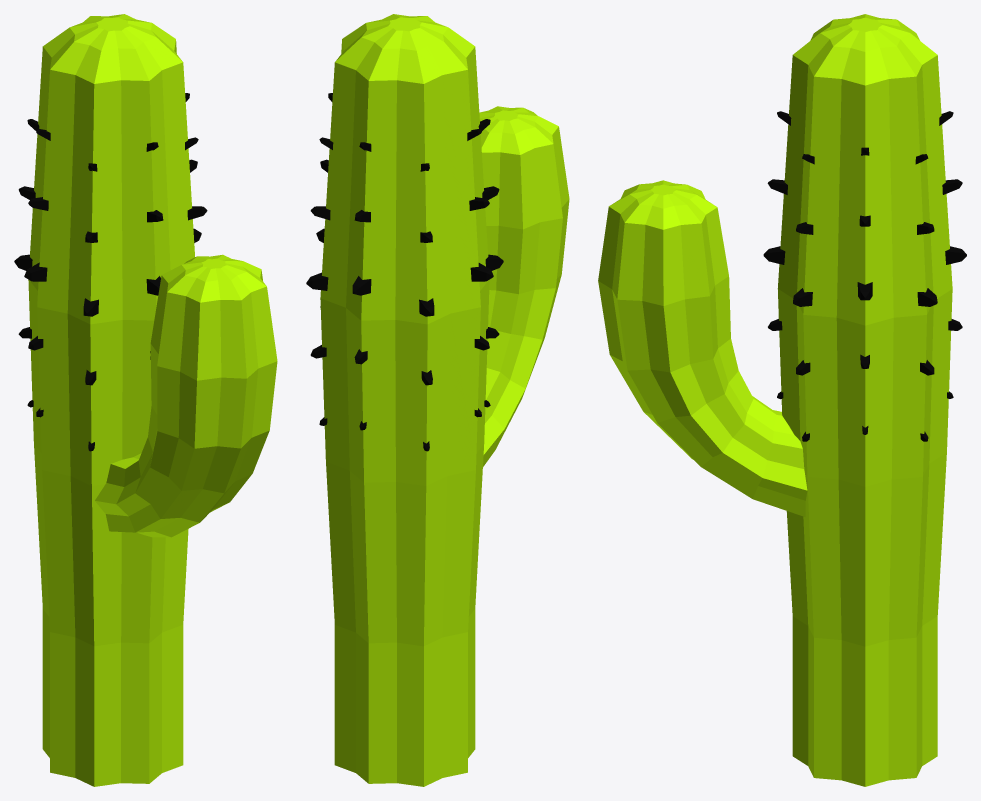
Rendered from Cardon04_01Brazos_Sin_Flor.fbx.
3 views of the same model, side by side, from view 1: azimuth 30°, elevation 25°; view 2: azimuth 150°, elevation 25°; view 3: azimuth 270°, elevation 25° (orthographic).
Visible parts, largest first — view 1: Cactus, Espinas; view 2: Cactus, Espinas; view 3: Cactus, Espinas.
Part boxes in pixels (left/top/right/bottom): Cactus: left=28, top=14, right=277, bottom=786; Espinas: left=14, top=93, right=207, bottom=451; Cactus: left=320, top=14, right=569, bottom=786; Espinas: left=306, top=93, right=503, bottom=451; Cactus: left=598, top=14, right=952, bottom=786; Espinas: left=763, top=111, right=966, bottom=441.
Size of the model in its own units: 53.18 by 211 by 96.46.
